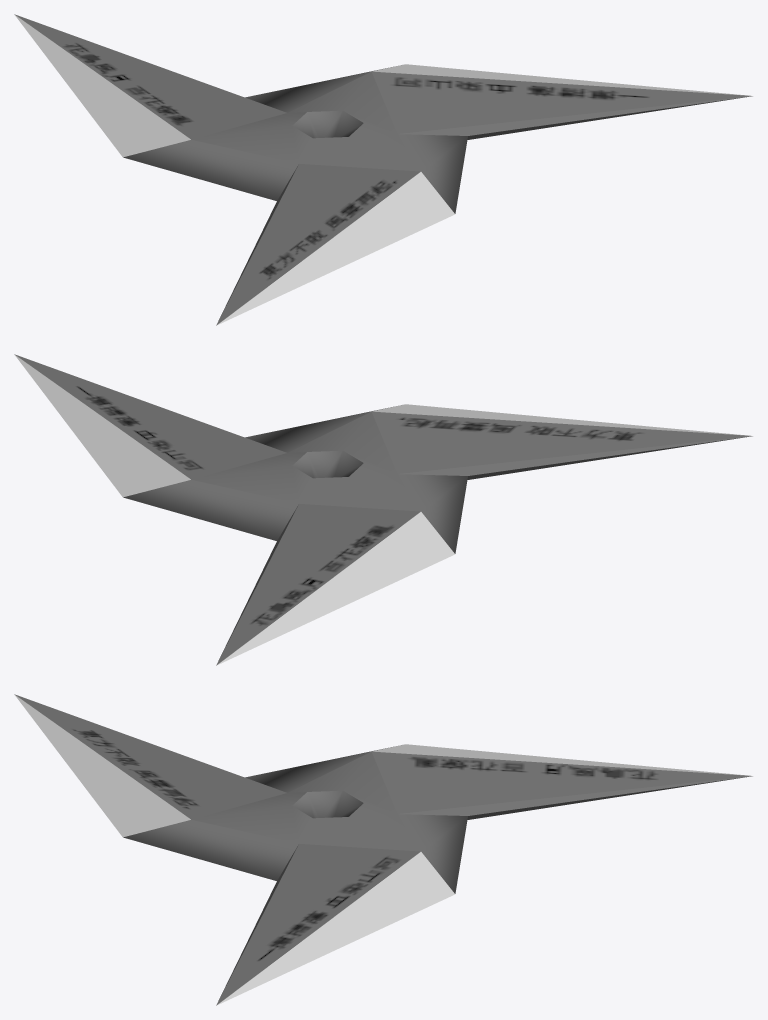
Rendered from shuriken.FBX.
3 views of the same model, one above another, from view 1: azimuth 30°, elevation 25°; view 2: azimuth 150°, elevation 25°; view 3: azimuth 270°, elevation 25° (orthographic).
Parts seen in each view (by area): view 1: Tube001; view 2: Tube001; view 3: Tube001.
Boxes of the visible parts, bbox=[...] form: Tube001: bbox=[14, 14, 752, 325]; Tube001: bbox=[14, 354, 752, 665]; Tube001: bbox=[14, 694, 752, 1005].
Bounding box in the file's own units: 189 × 11.79 × 189.
1 material, 1 textured.
